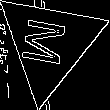M_E: (22, 16, 77, 71)
